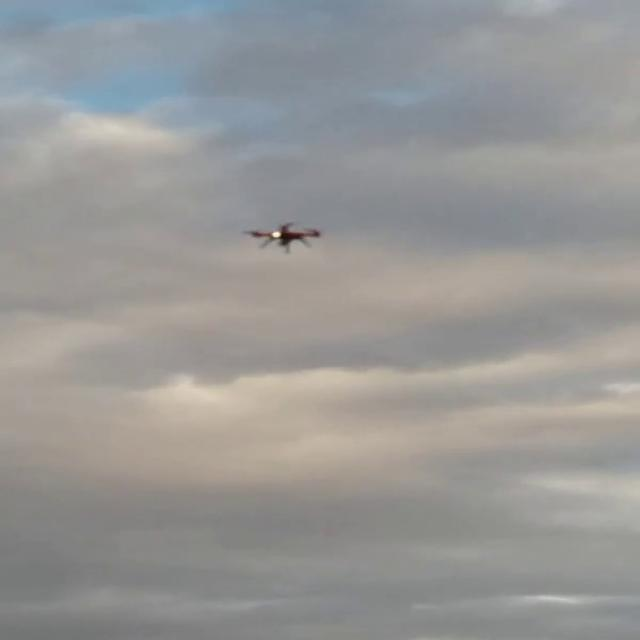drone: (238, 218, 326, 252)
